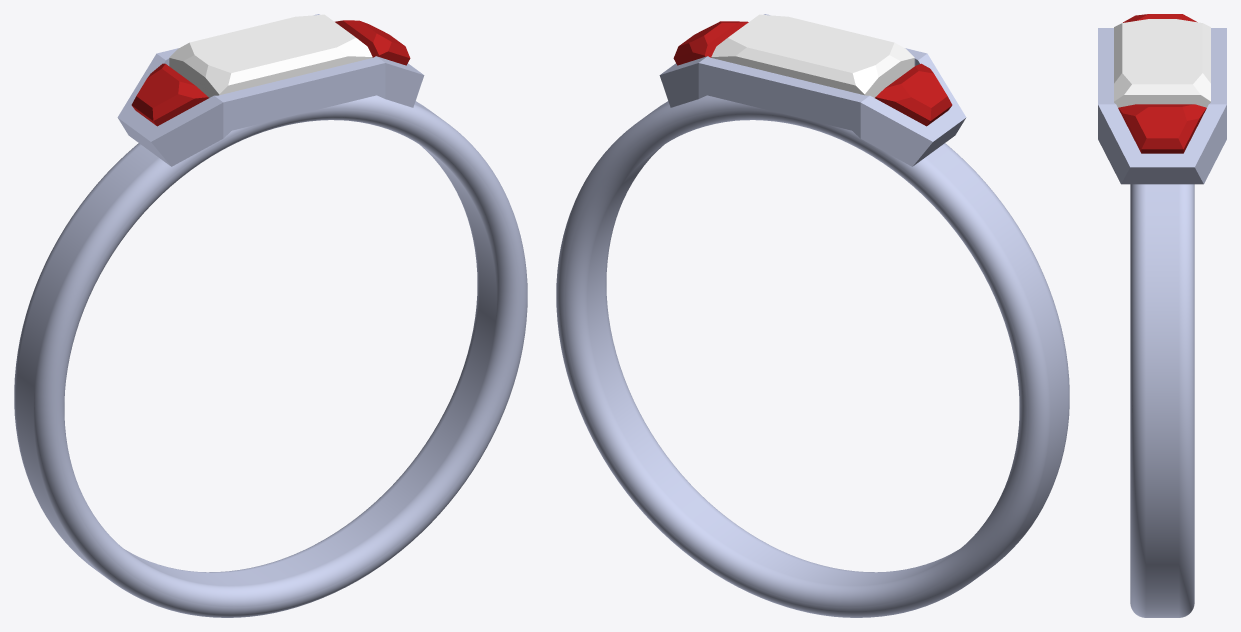
The model's file is ring.fbx.
The picture shows the model from 3 angles, left to right: view 1: azimuth 30°, elevation 25°; view 2: azimuth 150°, elevation 25°; view 3: azimuth 270°, elevation 25°; orthographic projection. The views are drawn at different scales.
Parts seen in each view (by area): view 1: prsten (×5); view 2: prsten (×5); view 3: prsten (×5).
Part boxes in pixels (<box>): prsten (×5): <box>14,14,527,617</box>; prsten (×5): <box>556,14,1069,617</box>; prsten (×5): <box>1098,14,1226,617</box>.
Size of the model in its own units: 17 by 18.5 by 4.
